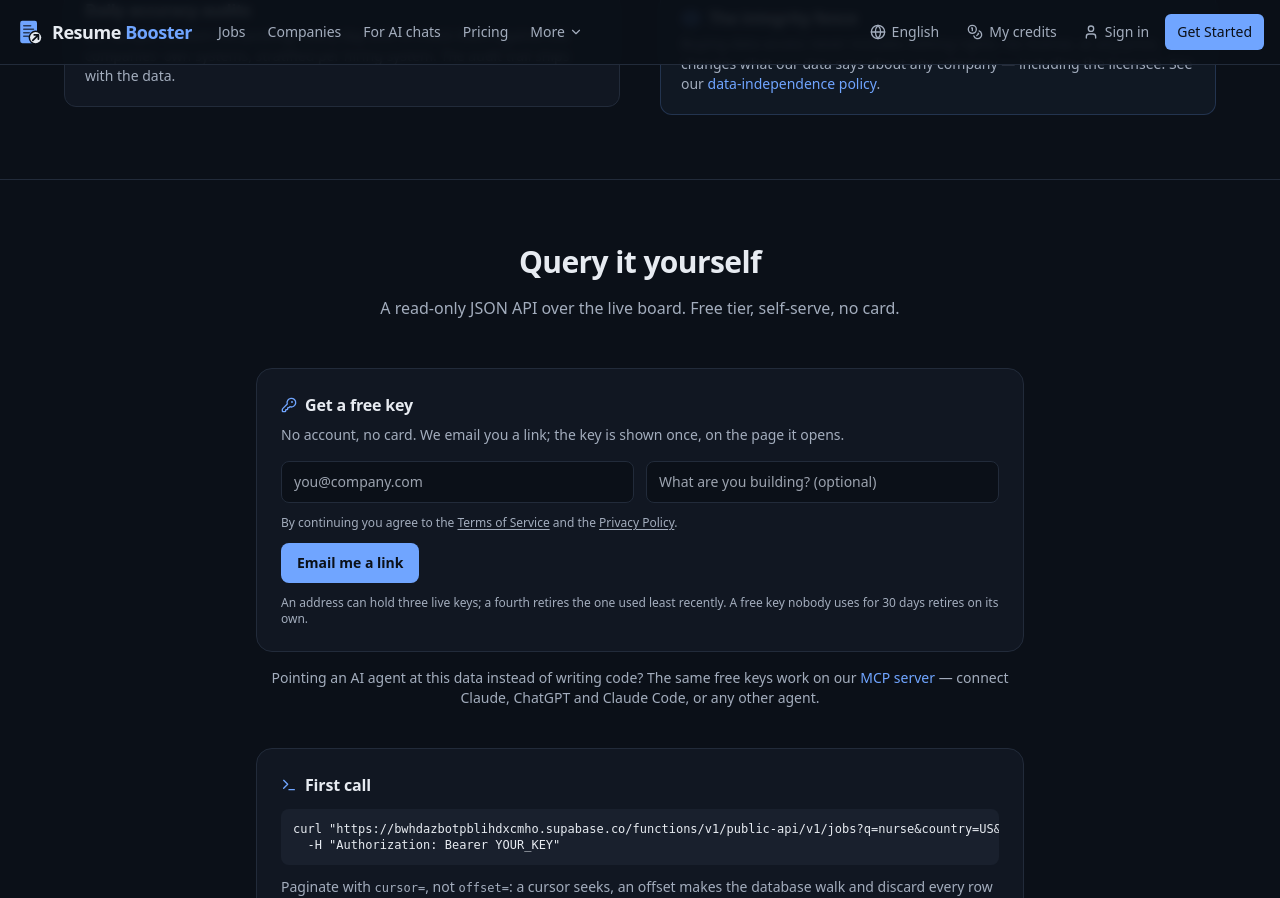
Test: /data-api: a key needs the mailbox, and the link needs a click › a refused request prints the server's reason, not a guess
(page scrolled)
Type "dev@example.org" into the field named "Email address".
click(458, 482); type("dev@example.org")  # box [281,461,634,503]
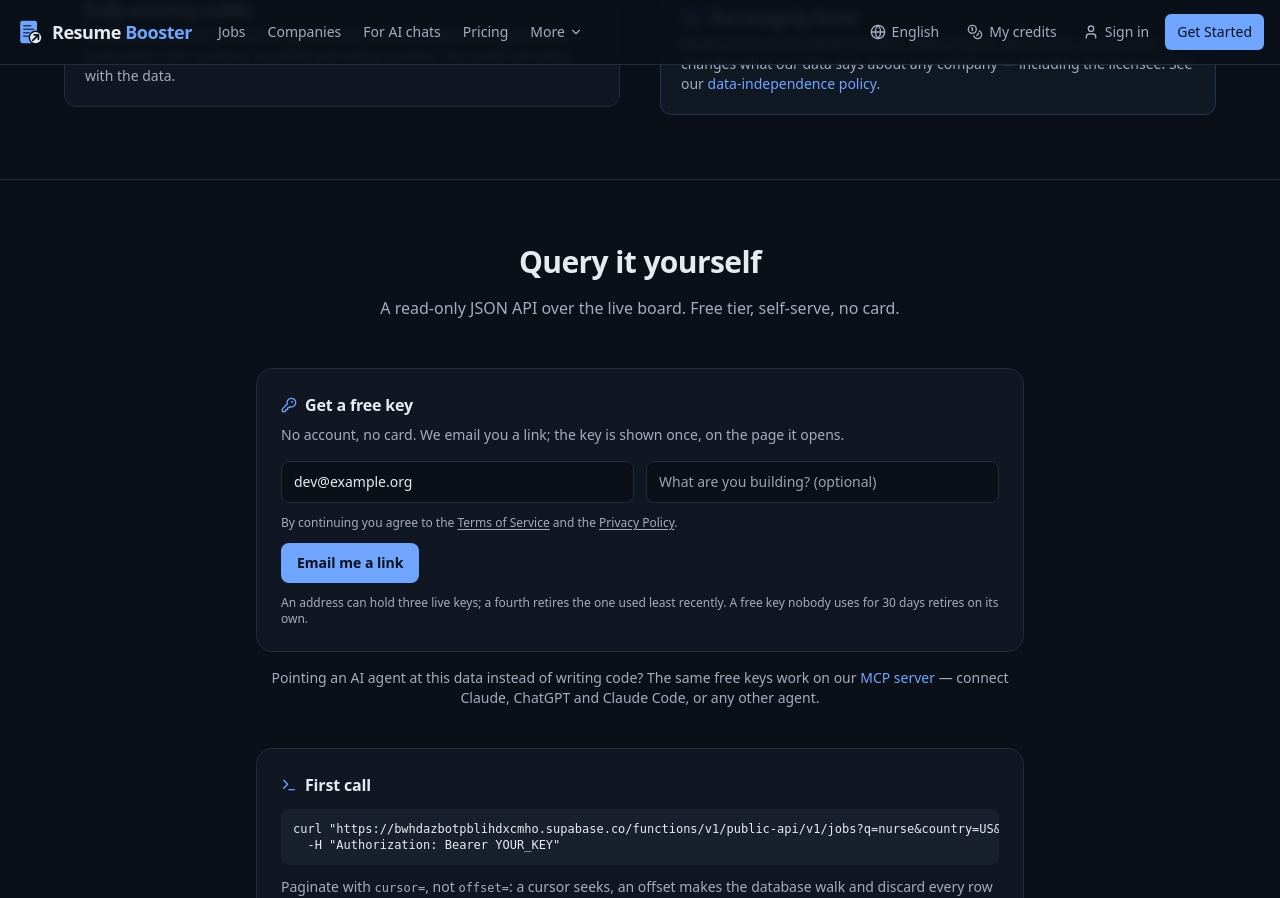
Click the button "Email me a link".
click(350, 563)  # box [281,543,419,583]
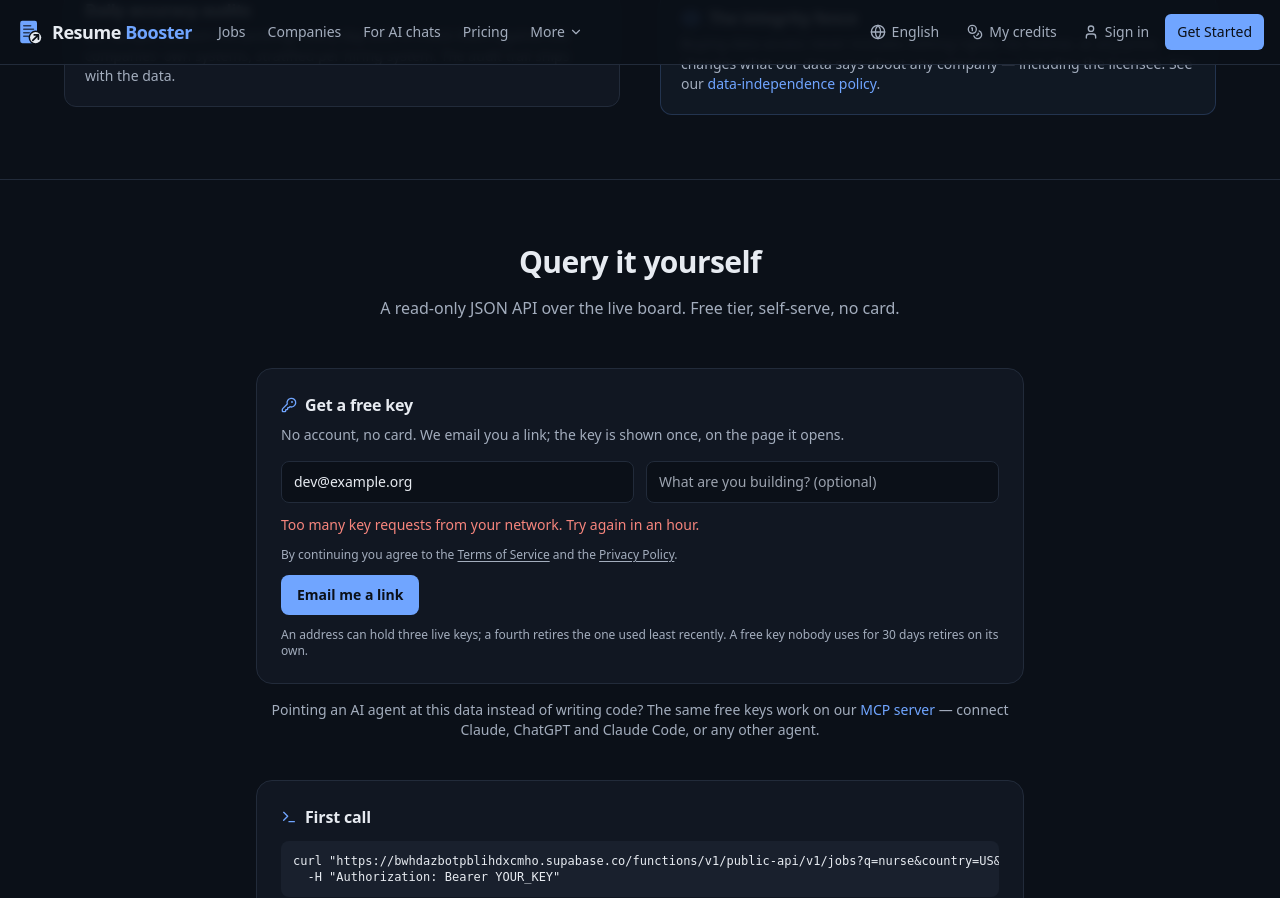
Now the text "Too many key requests from your network. Try again in an hour." is shown, box [281,515,699,534]
